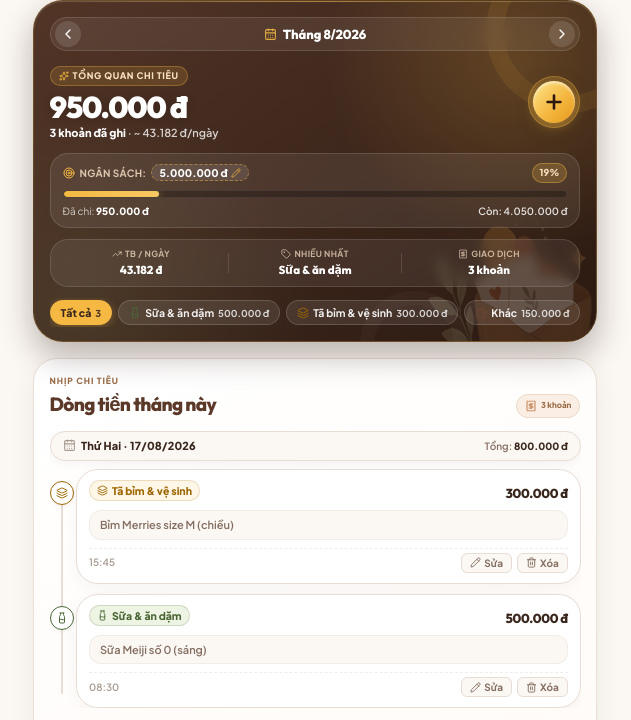
ExpensesView Component › allows editing monthly budget inline
Click the button "5.000.000 đ" at (200, 173), box [151,164,250,181]
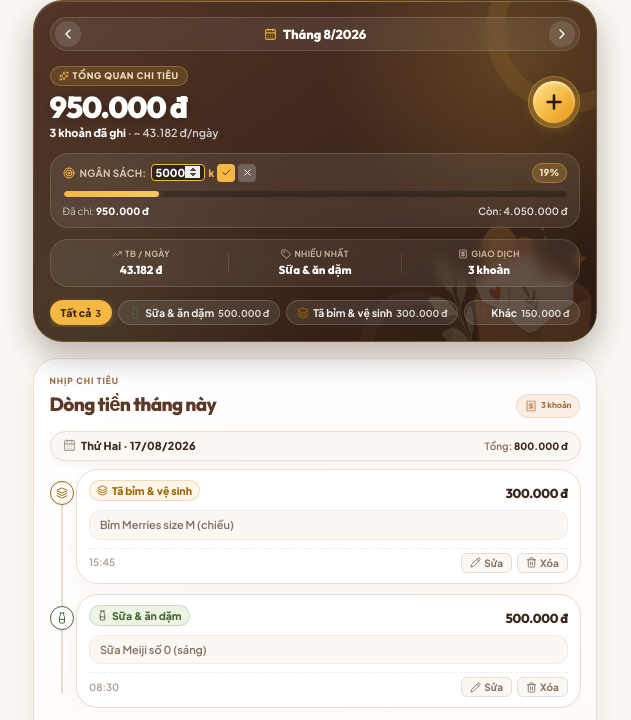
Type "10000" into the number field named "Số tiền ngân sách" at (178, 173), box [151,164,205,181]
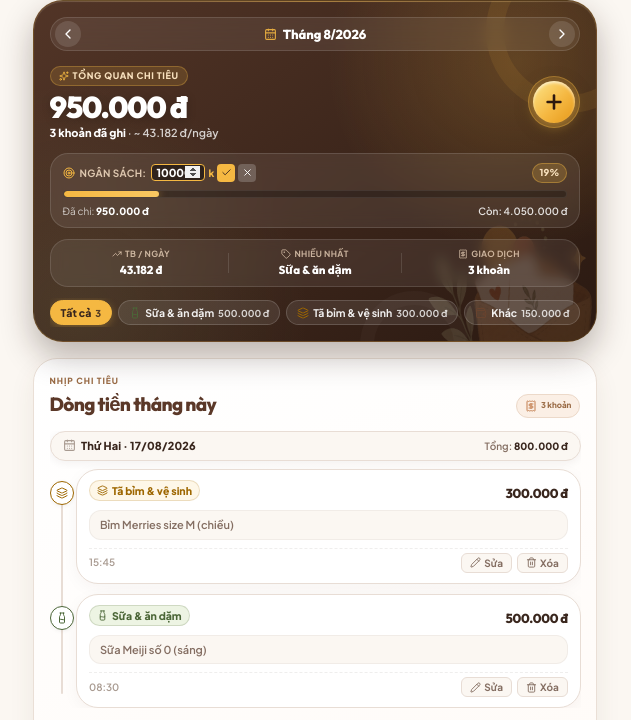
Click the button titled "Lưu" at (226, 173), box [217,164,235,182]
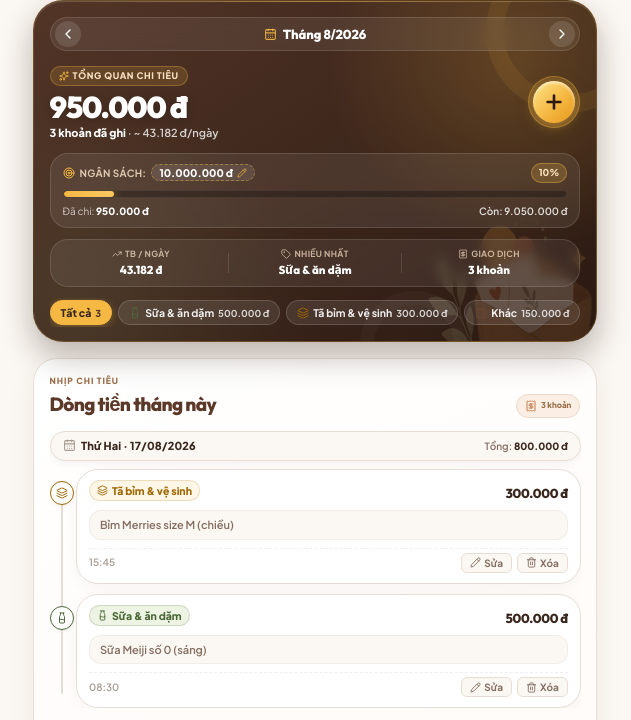
Result: the text "10.000.000 đ" is shown at [159,166,233,179]
Result: the text "10%" is shown at [531,163,568,183]
